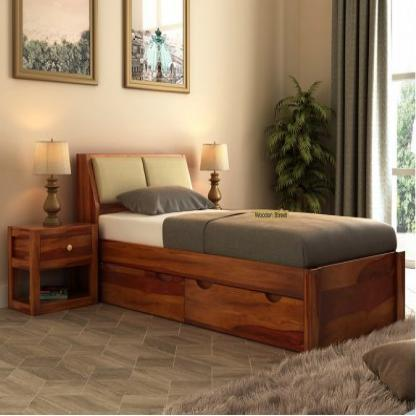bed: (71, 150, 408, 350)
light: (33, 137, 73, 230), (198, 139, 231, 210)
table: (3, 219, 95, 319)
